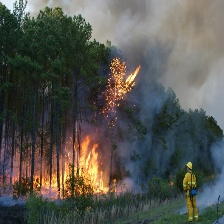fire: (35, 140, 118, 198), (102, 59, 133, 116)
smoke: (91, 2, 219, 98)
